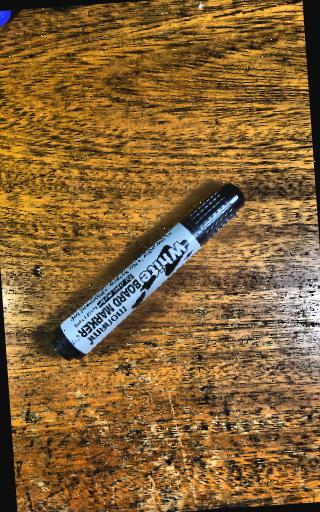marcador negro: (52, 183, 245, 361)
